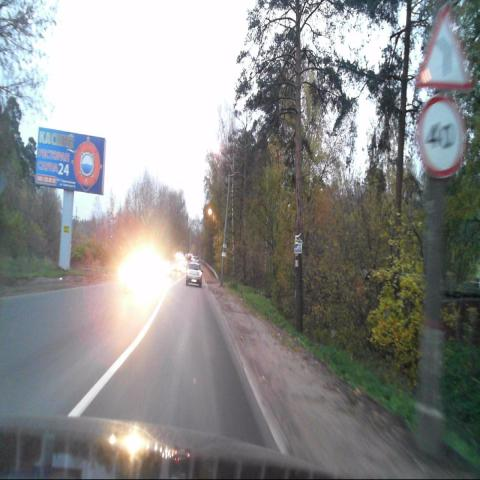1_11_1: (418, 7, 474, 89)
